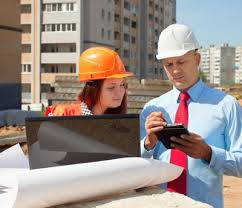helmet: (79, 46, 134, 78), (154, 25, 199, 55)
